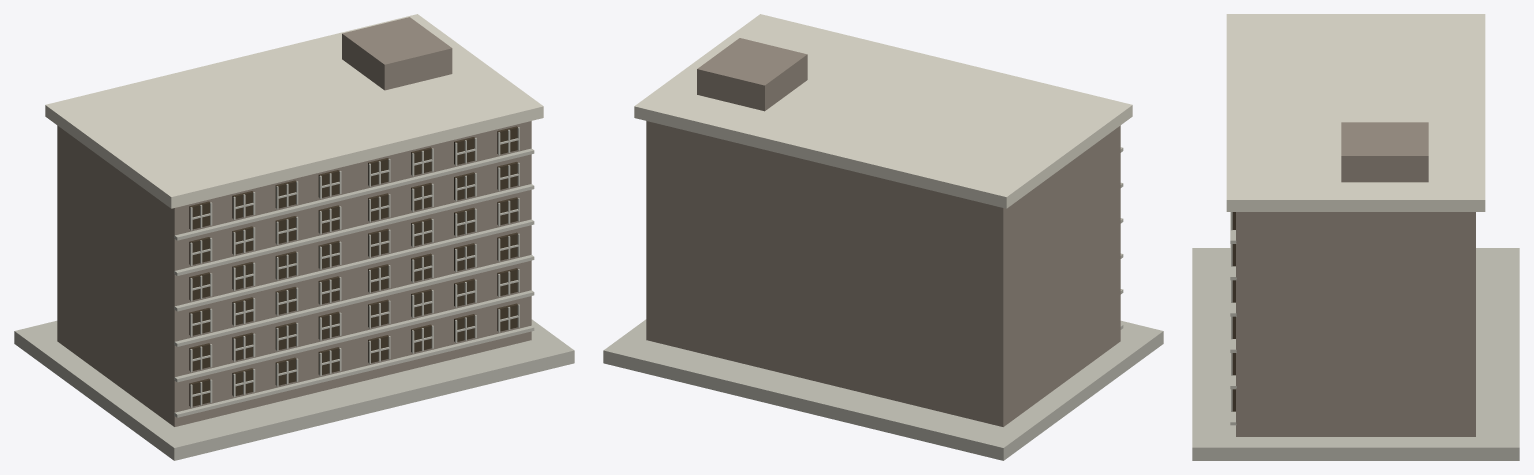
Rendered from shanghai_detail.glb.
3 views of the same model, side by side, from view 1: azimuth 30°, elevation 25°; view 2: azimuth 150°, elevation 25°; view 3: azimuth 270°, elevation 25° (orthographic). The views are drawn at different scales.
Parts seen in each view (by area): view 1: warehouse, roof cornice, stone plinth, roof tower, floor sill.003, floor sill.005, floor sill, floor sill.001, floor sill.002, floor sill.004; view 2: warehouse, roof cornice, stone plinth, roof tower; view 3: warehouse, roof cornice, stone plinth, roof tower.
Boxes of the visible parts, x1=… form: warehouse: x1=57, y1=121, x2=531, y2=426; roof cornice: x1=45, y1=14, x2=543, y2=208; stone plinth: x1=14, y1=319, x2=574, y2=460; roof tower: x1=342, y1=17, x2=452, y2=90; floor sill.003: x1=174, y1=219, x2=534, y2=311; floor sill.005: x1=174, y1=148, x2=534, y2=240; floor sill: x1=174, y1=325, x2=534, y2=417; floor sill.001: x1=174, y1=290, x2=534, y2=382; floor sill.002: x1=174, y1=255, x2=534, y2=346; floor sill.004: x1=174, y1=184, x2=534, y2=275; warehouse: x1=646, y1=121, x2=1120, y2=426; roof cornice: x1=634, y1=14, x2=1132, y2=208; stone plinth: x1=603, y1=319, x2=1163, y2=460; roof tower: x1=697, y1=38, x2=807, y2=111; warehouse: x1=1236, y1=212, x2=1475, y2=436; roof cornice: x1=1226, y1=14, x2=1485, y2=211; stone plinth: x1=1192, y1=248, x2=1519, y2=460; roof tower: x1=1341, y1=122, x2=1428, y2=182.
Size of the model in its own units: 6.5 by 4.25 by 4.5.
